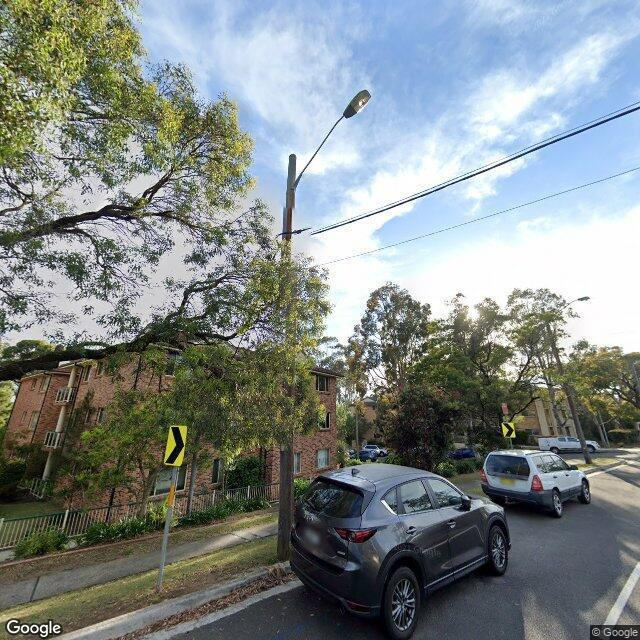streetlight: (290, 90, 372, 190), (555, 296, 590, 315)
timber-pole: (276, 153, 297, 562), (540, 306, 592, 464)
